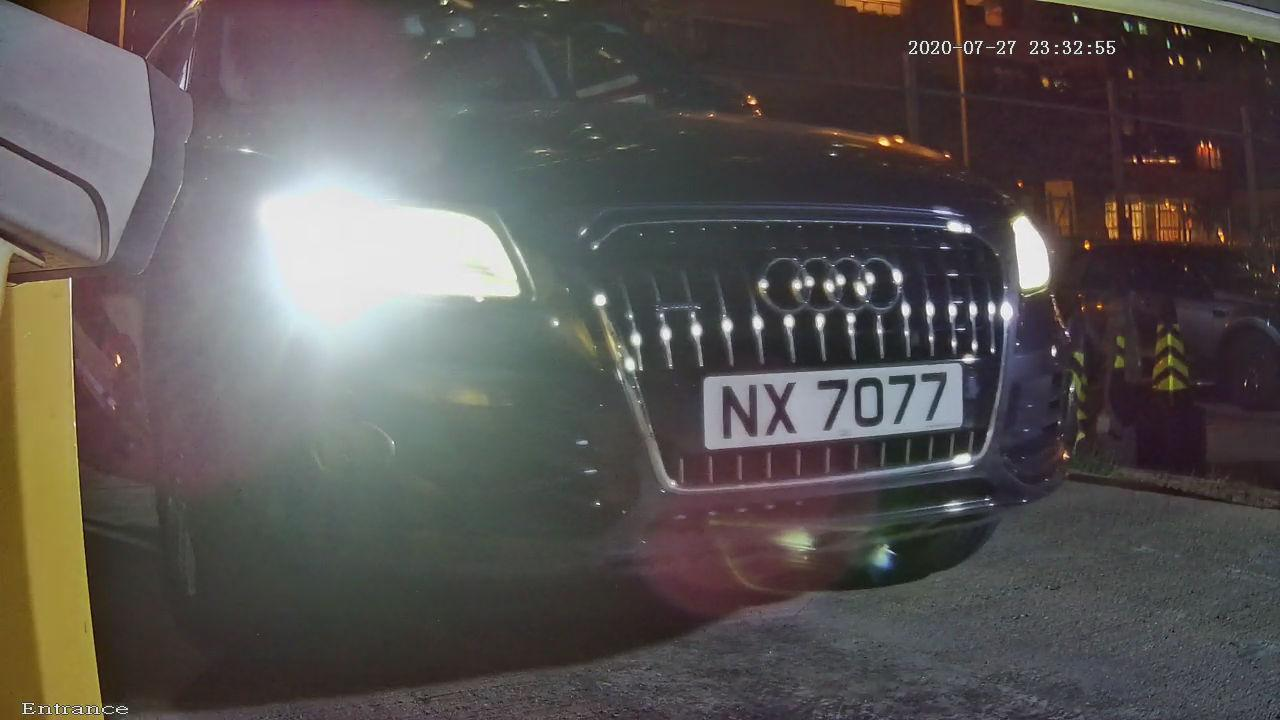privatecar: (160, 1, 1121, 643)
